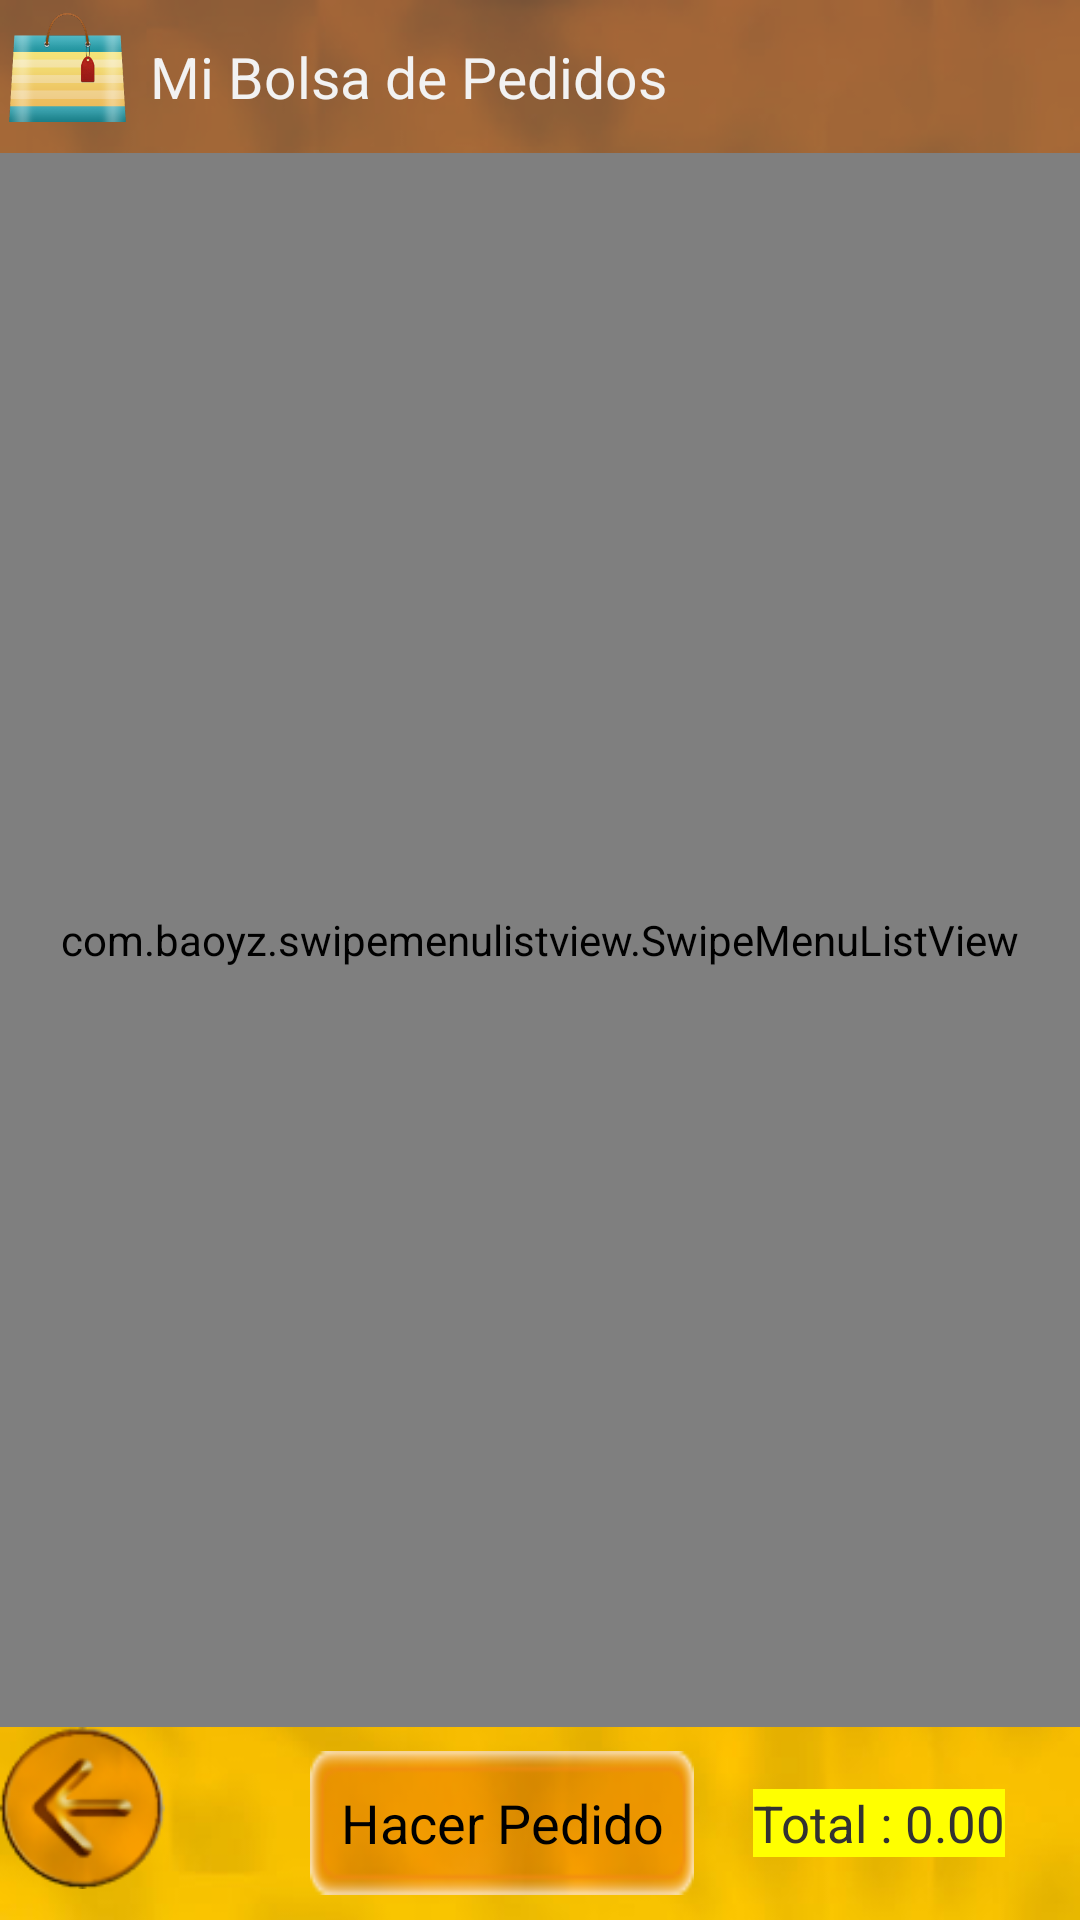

Named icons in this screenshot (1080w x 1920h) and their centers, point (x, y):
bag: point (67, 68)
goback: point (82, 1808)
